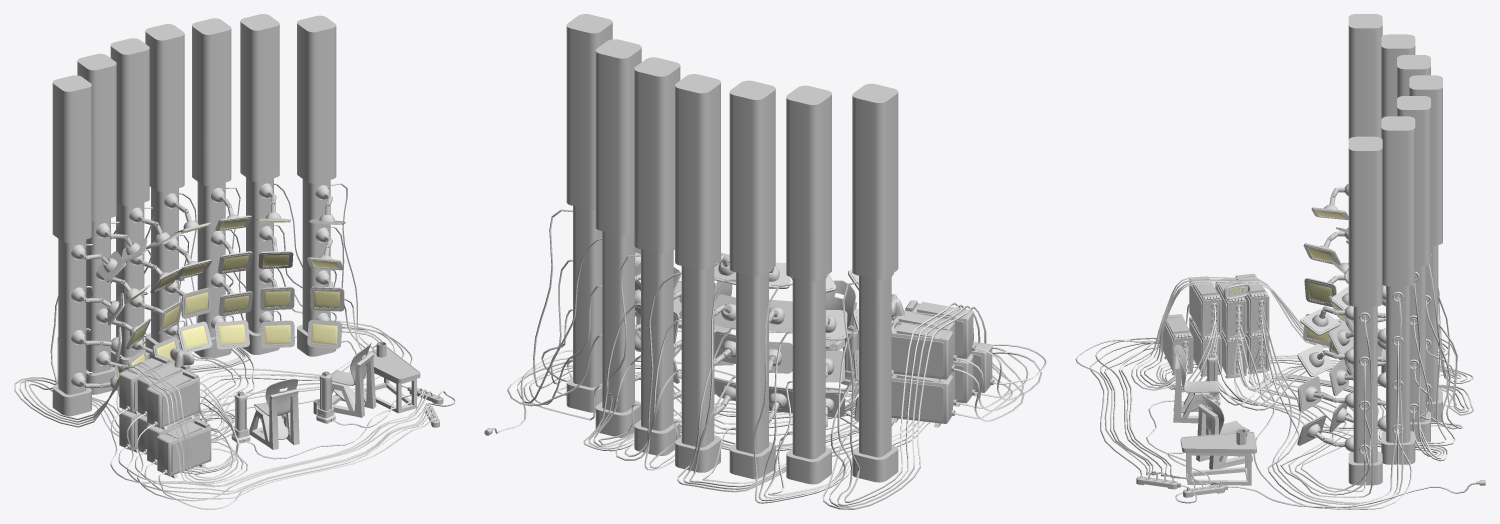
File: surveillance.fbx
3 renders of one model, left to right at view 1: azimuth 30°, elevation 25°; view 2: azimuth 150°, elevation 25°; view 3: azimuth 270°, elevation 25°, orthographic. The views are drawn at different scales.
Parts seen in each view (by area): view 1: BezierCurve.002_2, BezierCurve.001_1, BezierCurve.004_4, BezierCurve.003_3; view 2: BezierCurve.002_2, BezierCurve.001_1, BezierCurve.004_4; view 3: BezierCurve.002_2, BezierCurve.001_1, BezierCurve.004_4, BezierCurve.003_3.
Part boxes in pixels (bbox=[...]): BezierCurve.002_2: bbox=[52, 14, 345, 416]; BezierCurve.001_1: bbox=[14, 183, 455, 509]; BezierCurve.004_4: bbox=[119, 341, 443, 478]; BezierCurve.003_3: bbox=[117, 219, 340, 379]; BezierCurve.002_2: bbox=[484, 14, 898, 484]; BezierCurve.001_1: bbox=[493, 209, 1046, 509]; BezierCurve.004_4: bbox=[635, 280, 994, 427]; BezierCurve.002_2: bbox=[1297, 14, 1485, 485]; BezierCurve.001_1: bbox=[1075, 187, 1476, 509]; BezierCurve.004_4: bbox=[1136, 273, 1269, 497]; BezierCurve.003_3: bbox=[1229, 211, 1351, 366].
Size of what is drawn, in the model's own units: 652 by 584 by 649.
